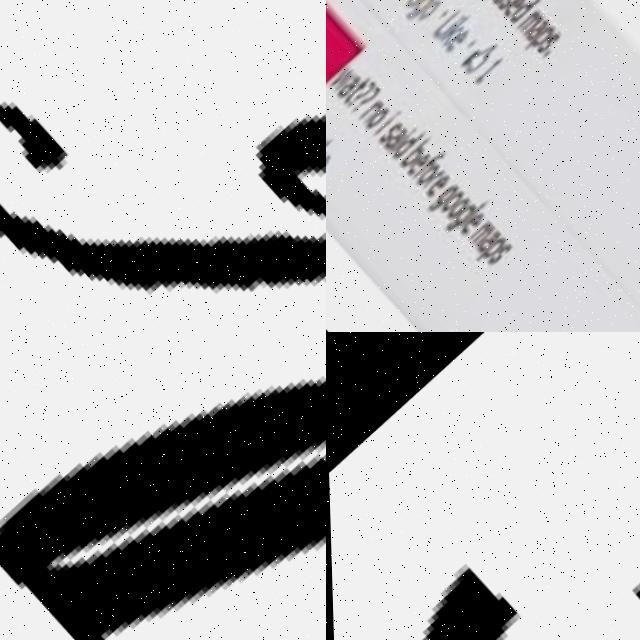1: (468, 57, 505, 91)
3: (327, 332, 640, 640)
D: (0, 332, 326, 640)
G: (0, 0, 326, 332)
